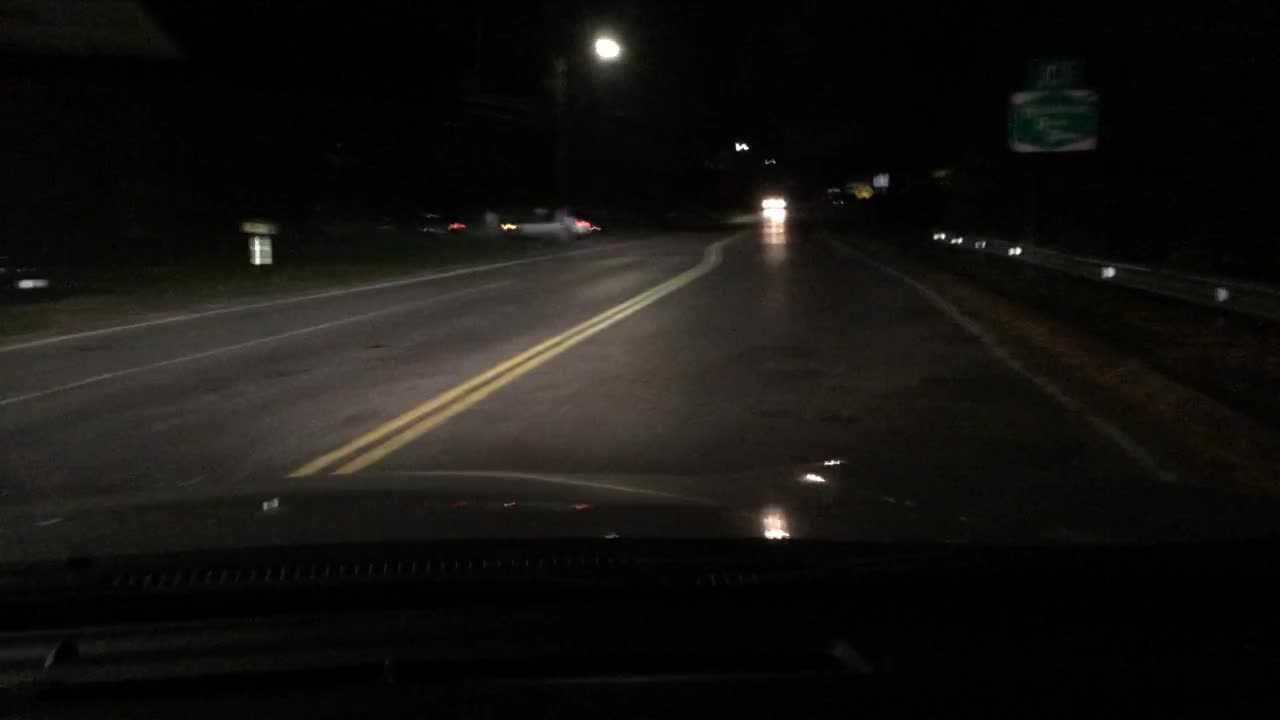car: (500, 199, 598, 238), (0, 262, 51, 299), (420, 210, 467, 235), (760, 192, 788, 208)
traffic sign: (1010, 92, 1099, 153), (854, 184, 872, 201), (872, 172, 889, 189)
